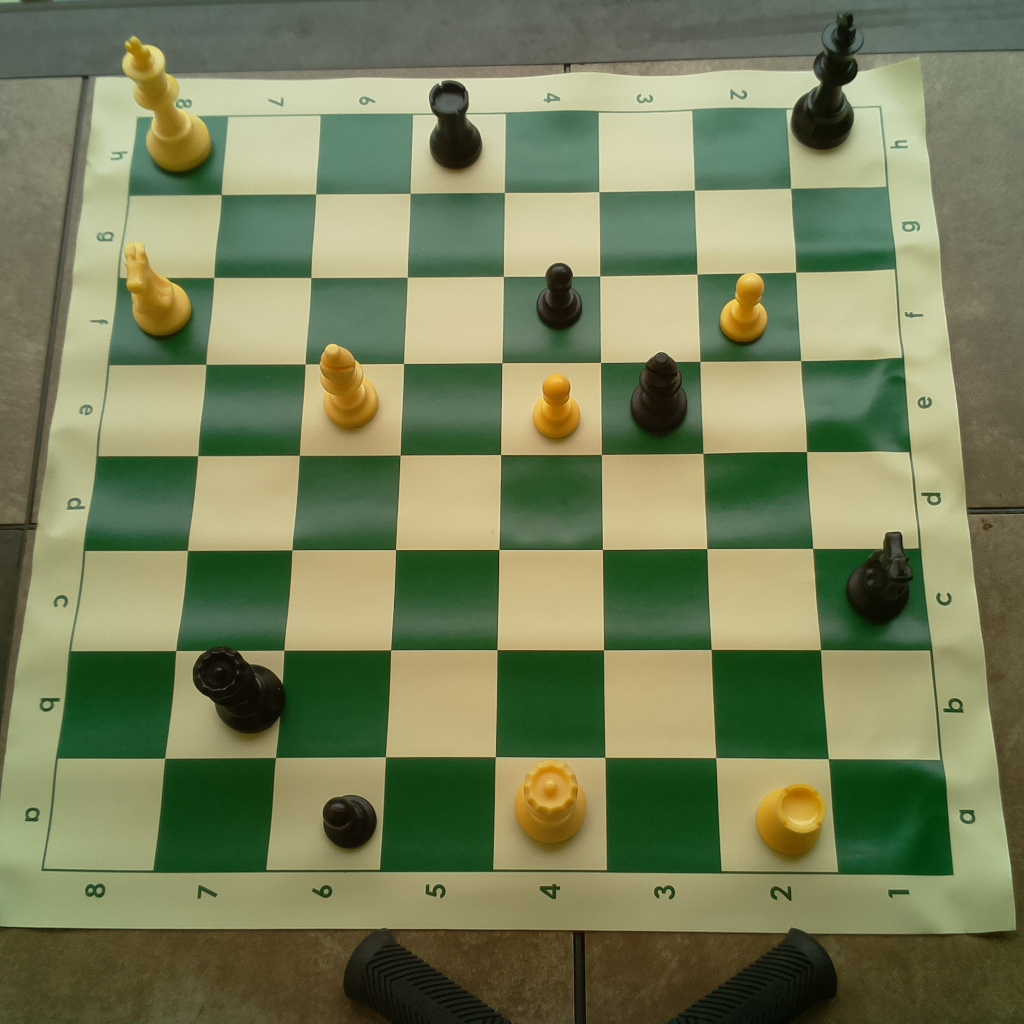black_bishop: (628, 348, 693, 440)
black_king: (789, 4, 862, 149)
black_knight: (845, 526, 919, 627)
black_pawn: (316, 787, 381, 852), (534, 258, 585, 328)
black_queen: (188, 641, 293, 740)
black_rook: (421, 75, 492, 175)
file_a: (42, 754, 954, 874)
file_b: (57, 651, 945, 758)
file_c: (68, 552, 932, 648)
file_d: (84, 452, 920, 548)
file_e: (98, 356, 910, 454)
file_f: (108, 269, 901, 357)
file_g: (119, 188, 896, 283)
file_h: (128, 104, 888, 193)
outline: (41, 105, 953, 875)
rank_1: (788, 106, 954, 875)
rank_2: (693, 109, 841, 874)
rank_3: (598, 110, 724, 873)
rank_4: (492, 114, 608, 869)
rank_5: (379, 113, 507, 873)
rank_6: (266, 115, 414, 871)
rank_7: (154, 115, 321, 873)
rank_8: (41, 114, 229, 870)
white_bishop: (314, 340, 383, 431)
white_king: (118, 34, 214, 171)
white_knight: (118, 238, 193, 340)
white_pawn: (527, 370, 585, 440), (714, 274, 772, 344)
white_queen: (511, 757, 592, 845)
white_rook: (749, 771, 829, 860)
